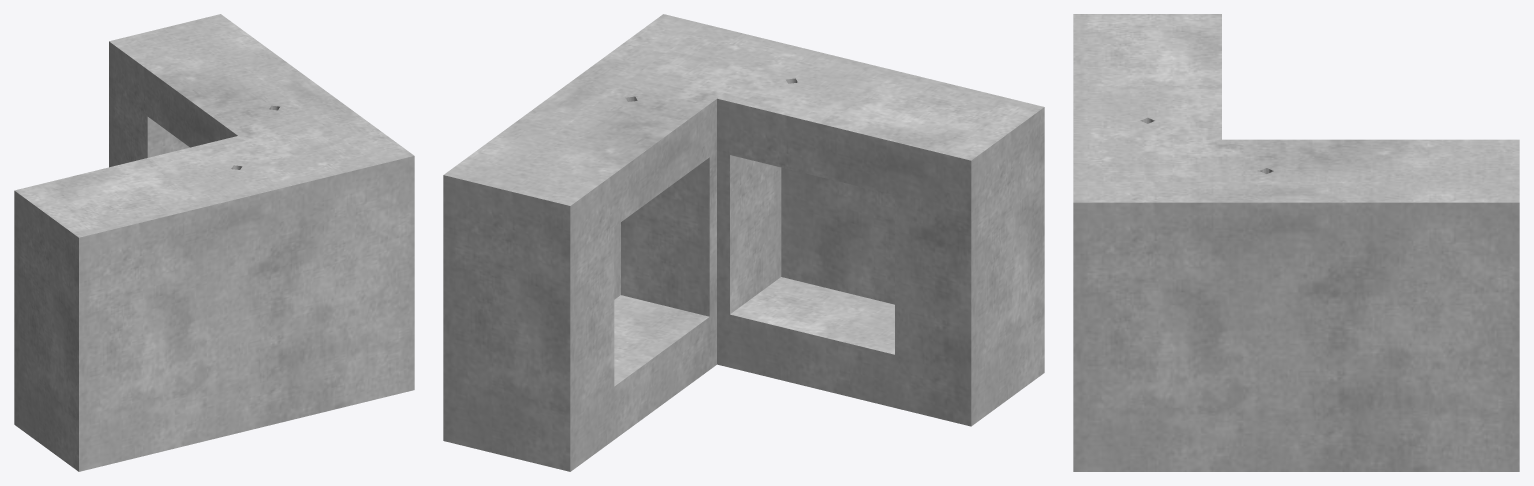
3 views of the same model, side by side, from view 1: azimuth 30°, elevation 25°; view 2: azimuth 150°, elevation 25°; view 3: azimuth 270°, elevation 25° (orthographic). The views are drawn at different scales.
Visible parts, largest first — view 1: SIMPUL; view 2: SIMPUL; view 3: SIMPUL.
Part boxes in pixels (x1,y1,x2,y2): SIMPUL: (14, 14, 414, 471); SIMPUL: (443, 14, 1044, 471); SIMPUL: (1073, 14, 1519, 471).
Bounding box in the file's own units: 0.9843 × 0.6562 × 0.9843.
1 material, 1 textured.
